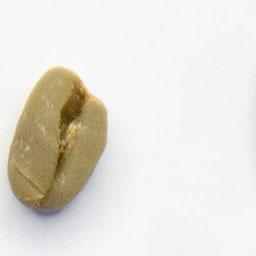peaberry: (5, 63, 111, 218)
